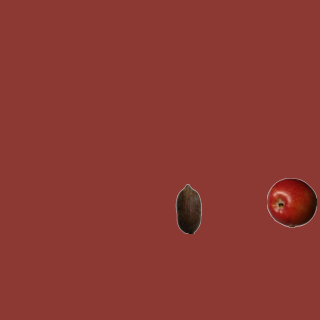Apple Braeburn: (266, 177, 316, 227)
Nut Pecan: (163, 183, 213, 233)
